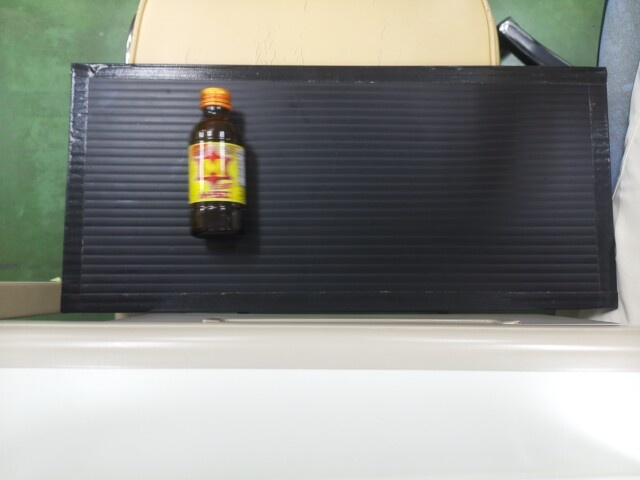glass_bottle: (182, 90, 245, 236)
